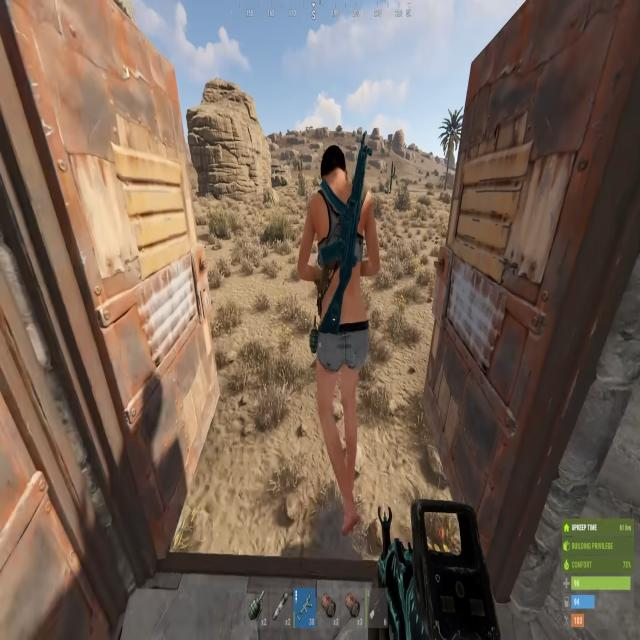Player: (295, 131, 383, 547)
